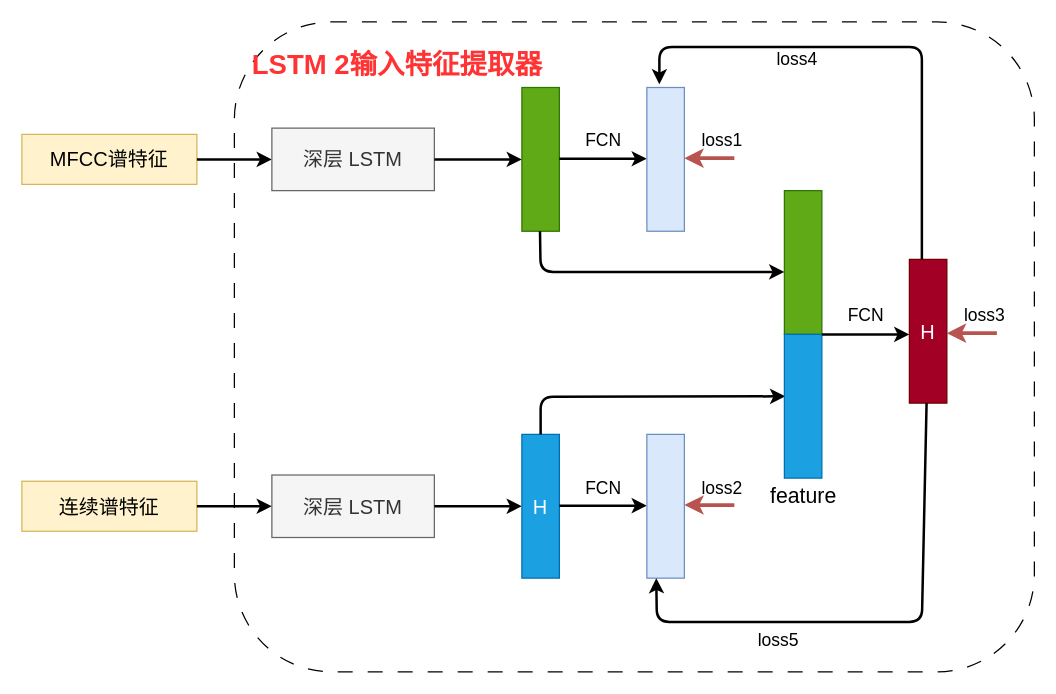
Some shapes in this 1056 by 694 pixel diagram are drawn without their labels. The shapes that lost their labels are listed below. From the top down, each one's box as (x1, y1, x2, y2) in pixels, then its label:
(521, 86, 559, 231): H L
(646, 86, 684, 231): H 1
(646, 433, 684, 578): H 2
